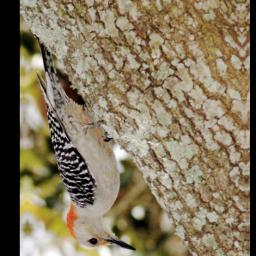Woodpecker: (26, 26, 140, 256)
